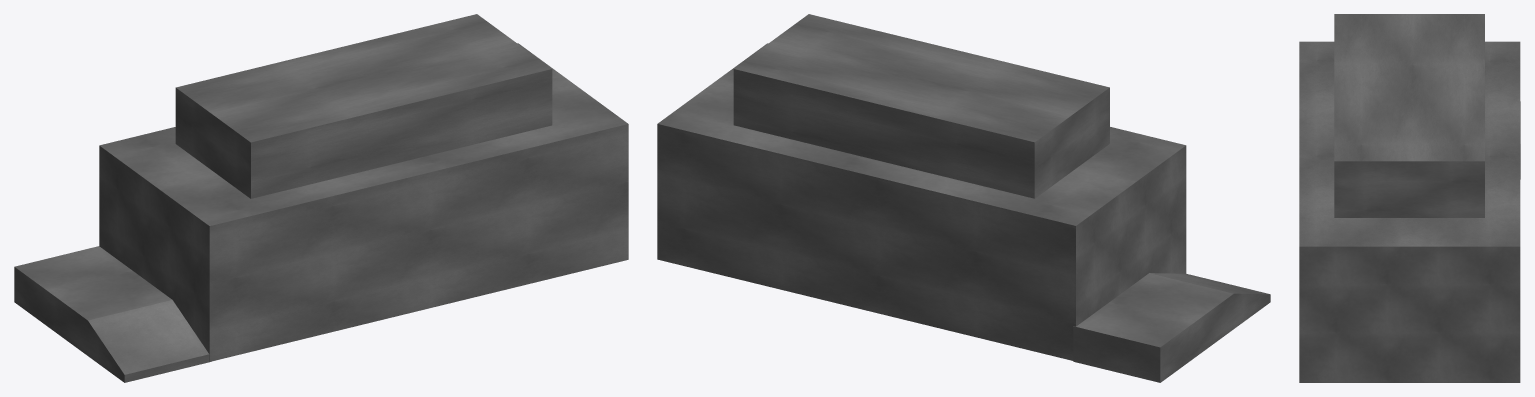
File: factory_body.obj
3 views of the same model, side by side, from view 1: azimuth 30°, elevation 25°; view 2: azimuth 150°, elevation 25°; view 3: azimuth 270°, elevation 25° (orthographic).
Parts seen in each view (by area): view 1: Cube; view 2: Cube; view 3: Cube.
Boxes of the visible parts, x1,y1,x2,y2 form: Cube: (14,14,628,382); Cube: (657,14,1270,382); Cube: (1299,14,1520,382).
Size of the model in its own units: 8.59 by 3.14 by 3.27.
Materials: 1 (1 with a texture image).
